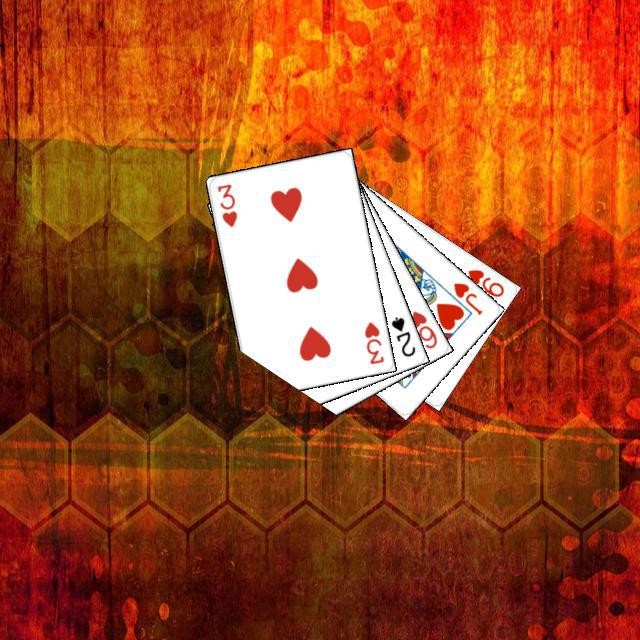2s: (386, 312, 417, 359)
3h: (212, 179, 239, 229), (359, 317, 385, 366)
6h: (406, 306, 439, 350)
9h: (462, 264, 506, 299)
Jh: (449, 277, 484, 317)
